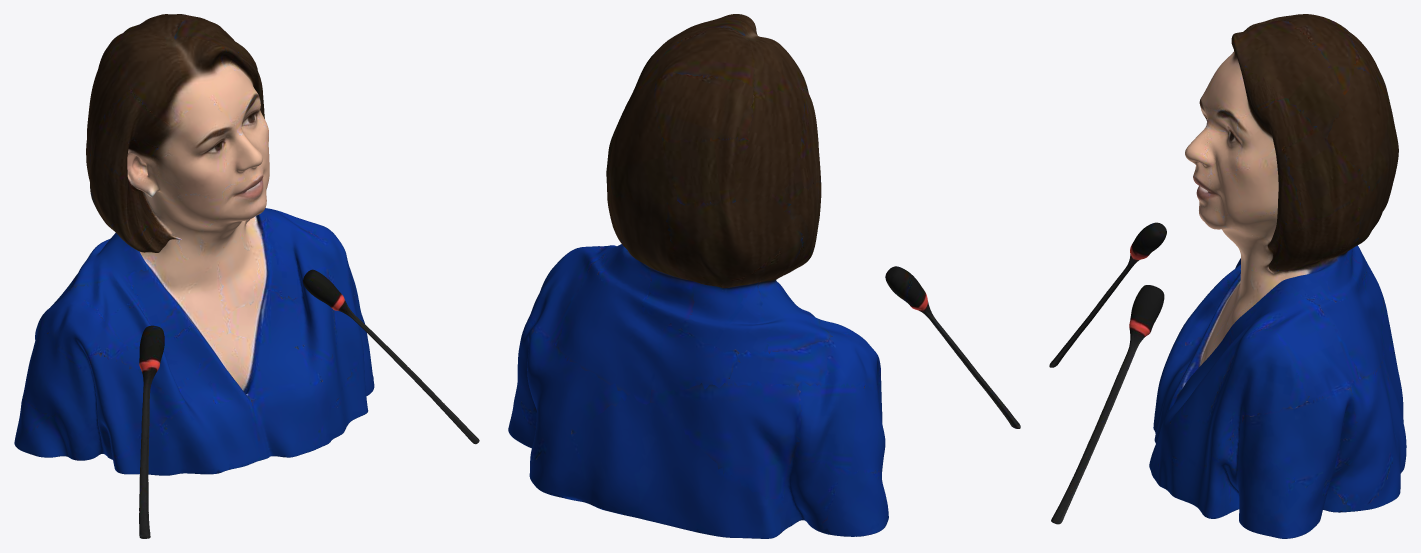
The model's file is Meshy_AI_Blue_Briefing_1025175837_texture_compressed.glb.
3 views of the same model, side by side, from view 1: azimuth 30°, elevation 25°; view 2: azimuth 150°, elevation 25°; view 3: azimuth 270°, elevation 25° (orthographic). The views are drawn at different scales.
Bounding box in the file's own units: 1.7 × 1.9 × 1.46.
Materials: 1 (1 with a texture image).
